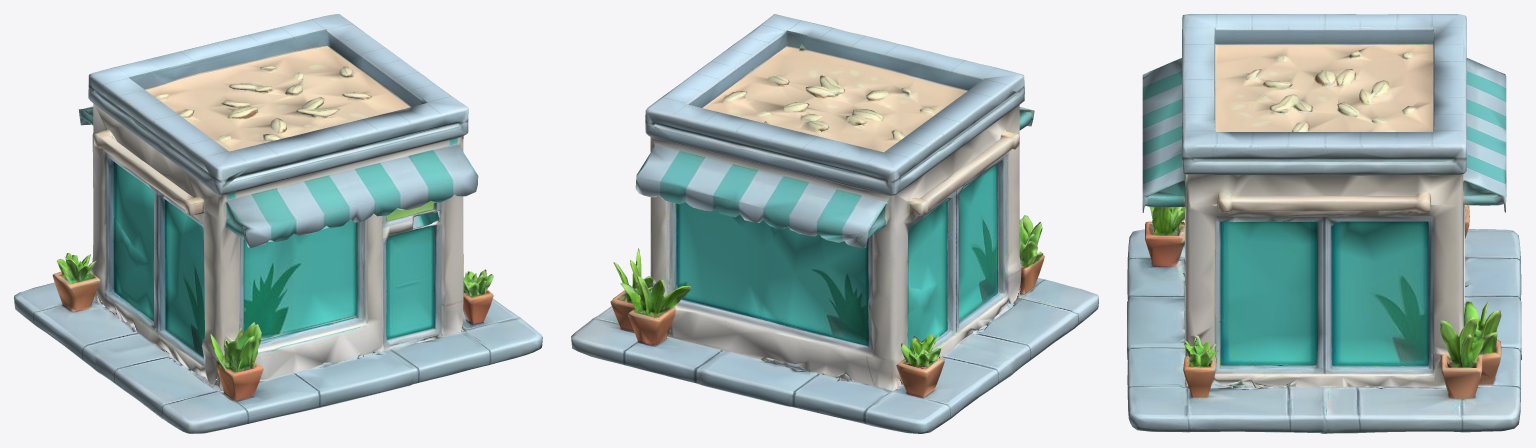
File: tertiary.glb
3 views of the same model, side by side, from view 1: azimuth 30°, elevation 25°; view 2: azimuth 150°, elevation 25°; view 3: azimuth 270°, elevation 25° (orthographic). The views are drawn at different scales.
Parts seen in each view (by area): view 1: Mesh_0; view 2: Mesh_0; view 3: Mesh_0.
Boxes of the visible parts, x1,y1,x2,y2 form: Mesh_0: (14,14,542,433); Mesh_0: (571,14,1098,433); Mesh_0: (1127,14,1521,433).
Size of the model in its own units: 1.91 by 1.22 by 1.67.
Materials: 1 (1 with a texture image).
